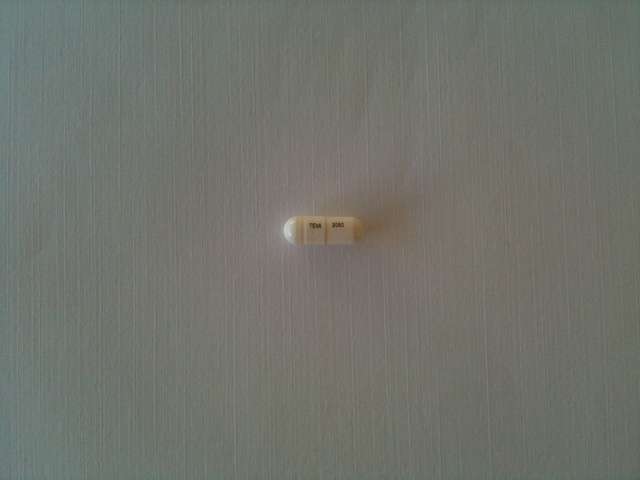capsule: (281, 214, 367, 248)
